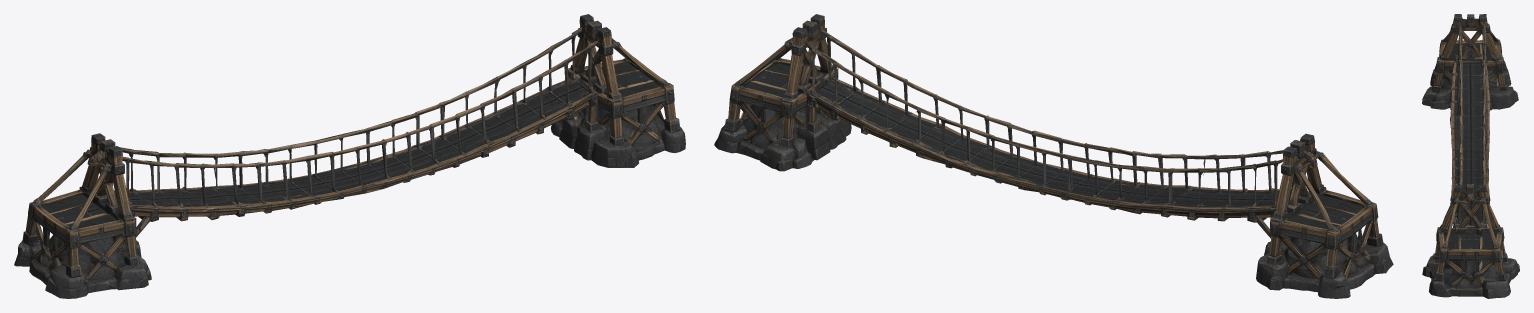
Rendered from stunt-suspension-bridge.glb.
3 views of the same model, side by side, from view 1: azimuth 30°, elevation 25°; view 2: azimuth 150°, elevation 25°; view 3: azimuth 270°, elevation 25° (orthographic). The views are drawn at different scales.
Bounding box in the file's own units: 1.9 × 0.3474 × 0.3537.
1 material, 1 textured.
